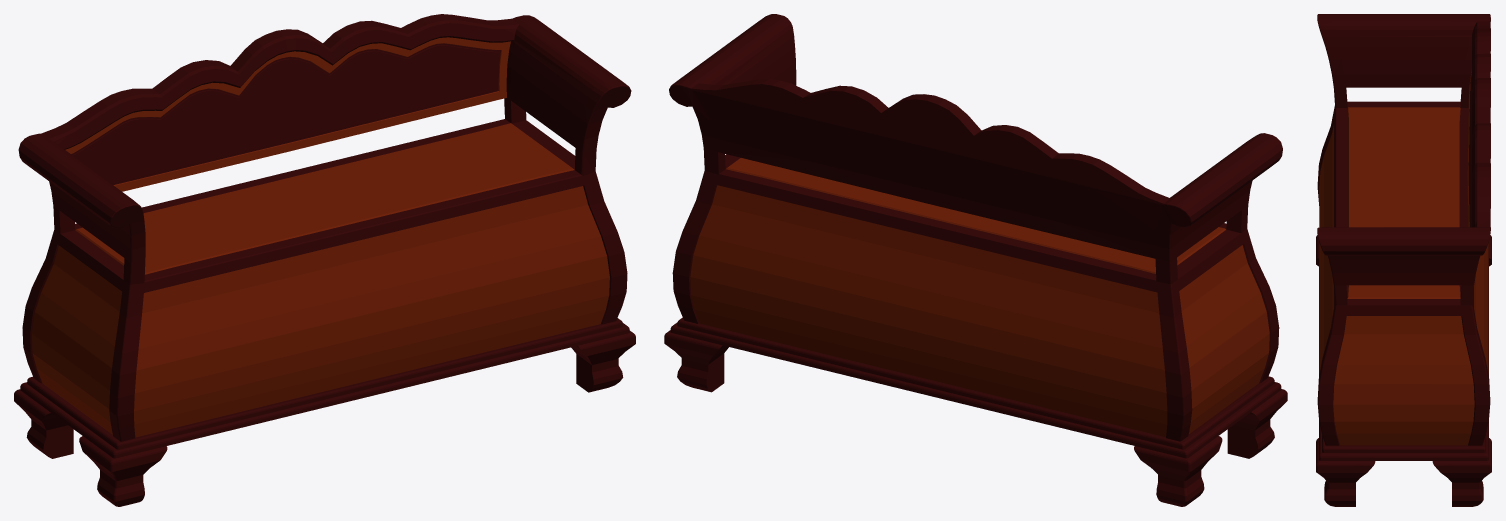
The model's file is bench-by-cmht-oculus-7pKc9ejEUvn.glb.
3 views of the same model, side by side, from view 1: azimuth 30°, elevation 25°; view 2: azimuth 150°, elevation 25°; view 3: azimuth 270°, elevation 25° (orthographic). The views are drawn at different scales.
Parts seen in each view (by area): view 1: Node; view 2: Node; view 3: Node.
Boxes of the visible parts, bbox=[...] form: Node: bbox=[14, 14, 635, 506]; Node: bbox=[664, 14, 1287, 506]; Node: bbox=[1316, 14, 1491, 506].
Bounding box in the file's own units: 50 × 32.04 × 16.16.
